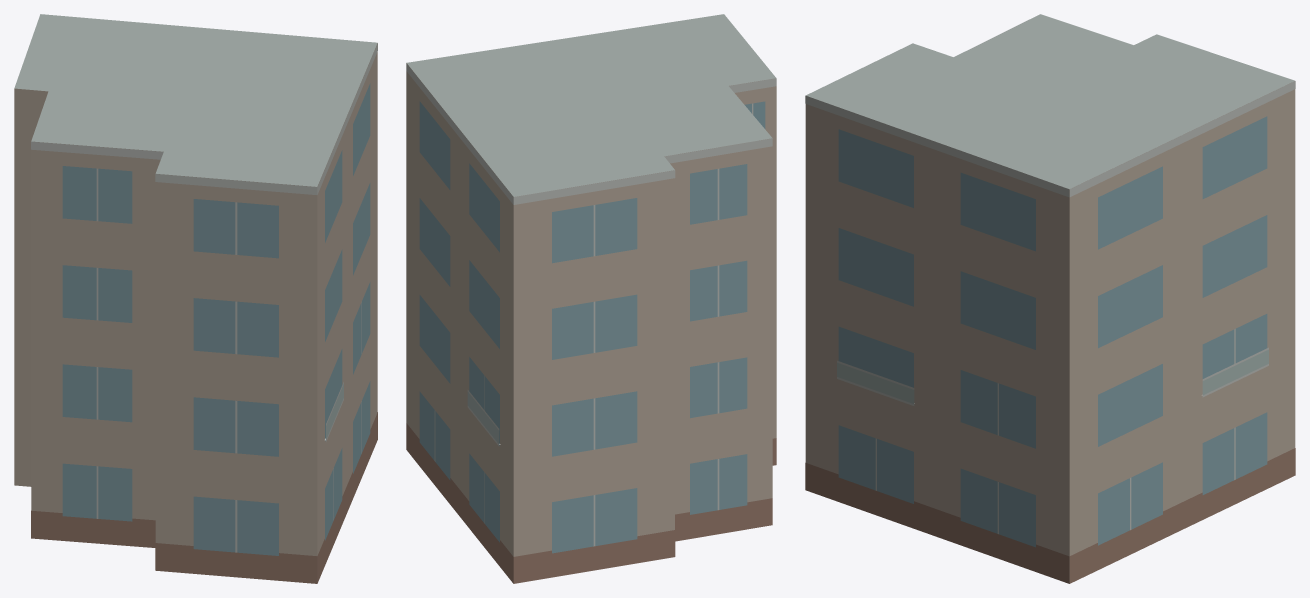
Rendered from survey-upis-32722694.glb.
3 views of the same model, side by side, from view 1: azimuth 30°, elevation 25°; view 2: azimuth 150°, elevation 25°; view 3: azimuth 270°, elevation 25° (orthographic). The views are drawn at different scales.
Parts seen in each view (by area): view 1: survey-upis-32722694.tmp; view 2: survey-upis-32722694.tmp; view 3: survey-upis-32722694.tmp.
Part boxes in pixels (x1,y1,x2,y2): survey-upis-32722694.tmp: (14, 14, 377, 583); survey-upis-32722694.tmp: (406, 14, 776, 583); survey-upis-32722694.tmp: (805, 14, 1295, 583).
Bounding box in the file's own units: 11.15 × 11.7 × 13.17.
